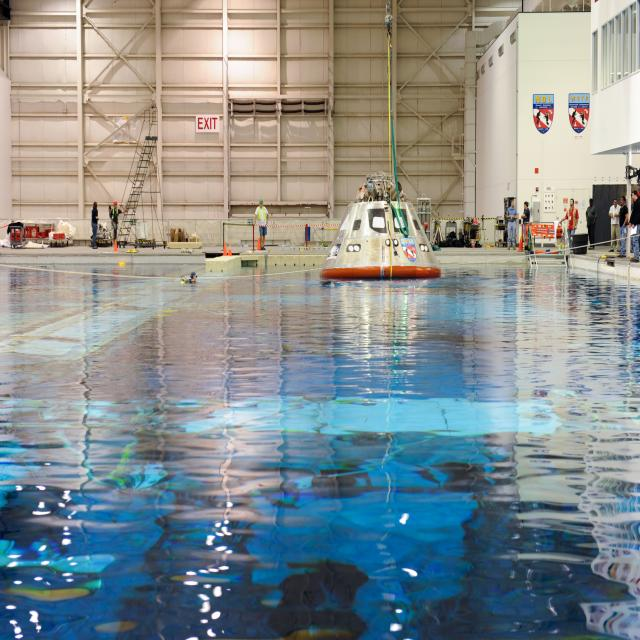Orion_capsule_mockup_(WEST)_located_on_far_end_of_pool: (319, 170, 441, 282)
